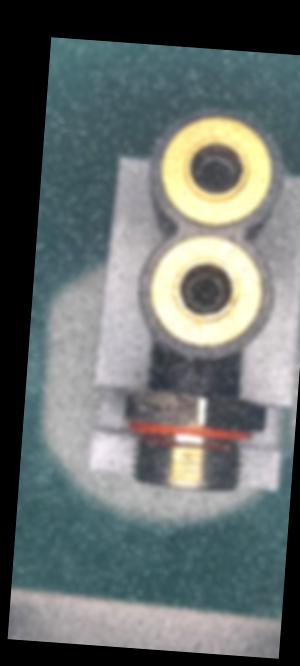craze: (189, 365, 206, 396)
